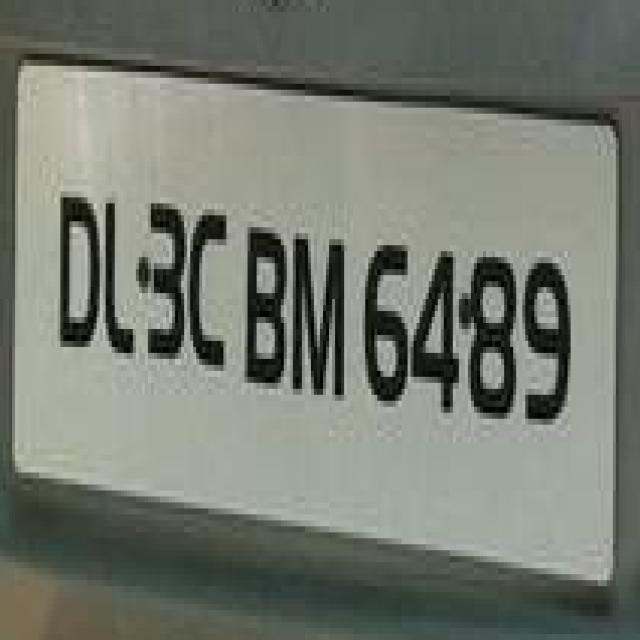license_plate: (0, 78, 613, 538)
